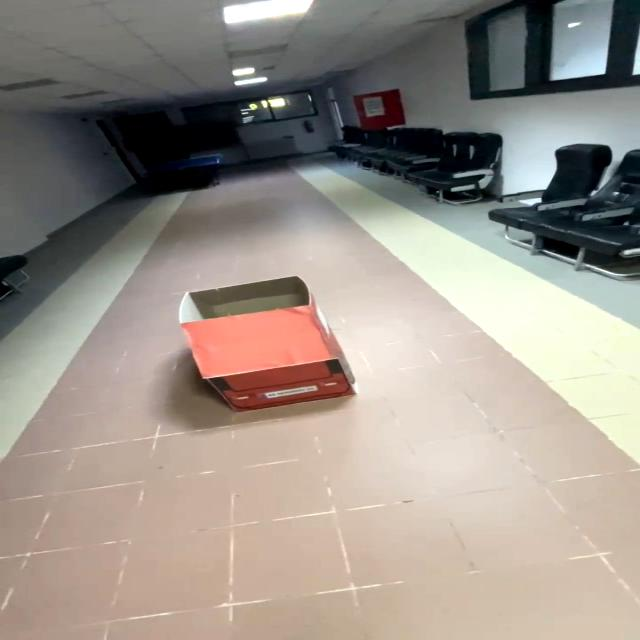red_car: (126, 254, 415, 436)
